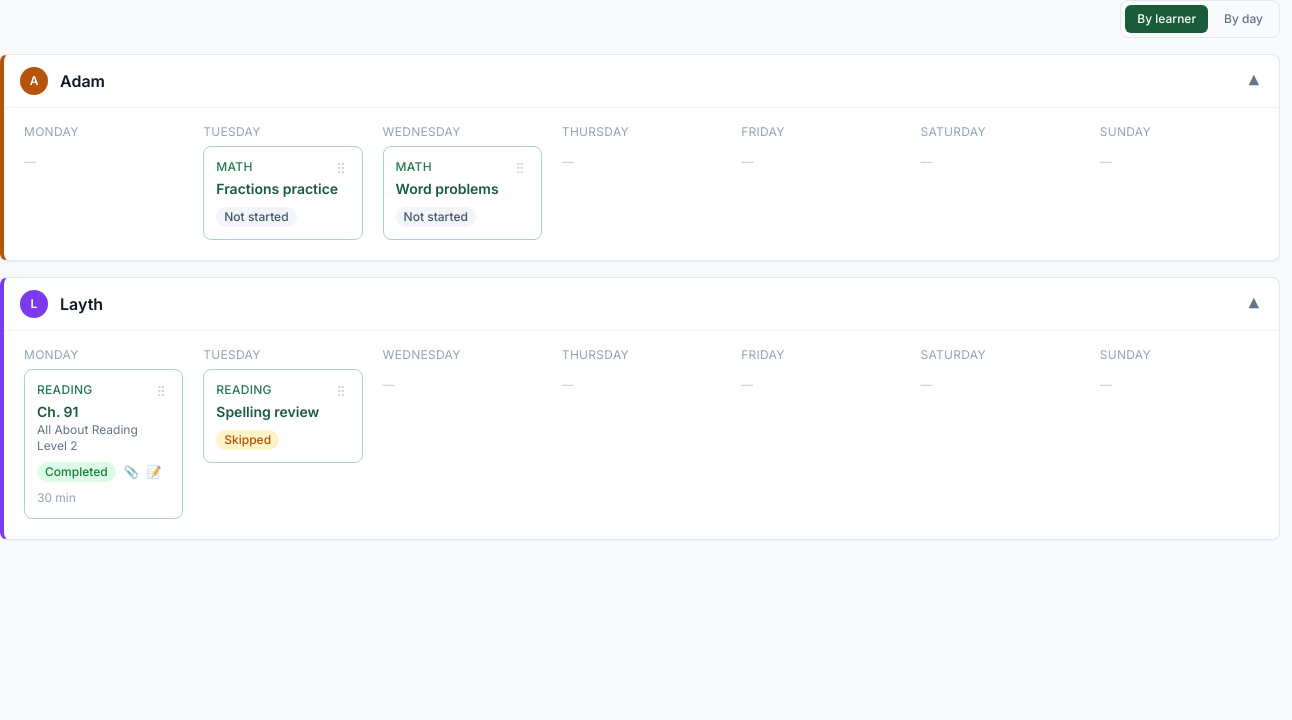
Test: WeeklyPlanner › switching to 'By day' mode shows Child A and Child B's lessons together under a given date, color-coded by learner; switching back to 'By learner' restores the
This screenshot has width=1292, height=720.
Check: the text "Adam" is shown once, box [60,69,105,93]
Check: the text "Layth" is shown once, box [60,292,103,316]
What coordinates should you click on to do the following:
click the button with test id "planner-display-mode-byDay"
I would click on:
 (1244, 19)
Its box is [1212,5,1275,33].
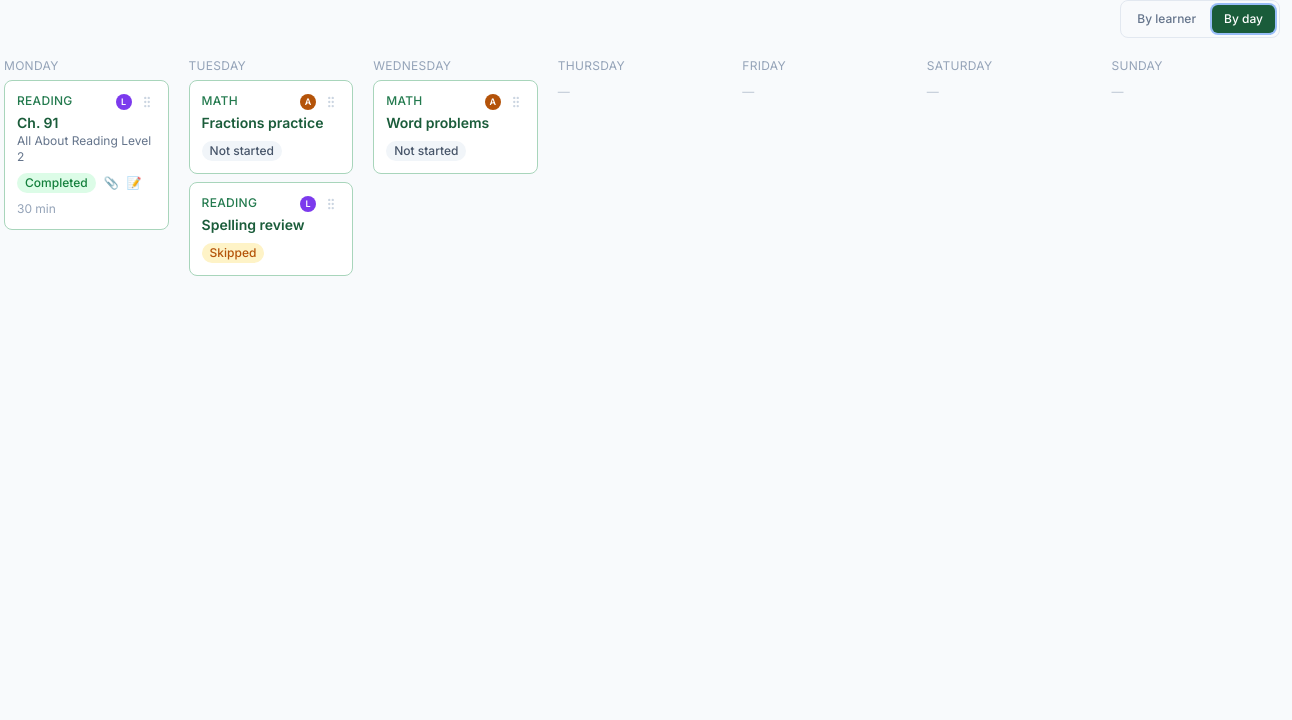
Check: the text with test id "combined-learner-badge-lesson_003" is shown, box [116,94,132,110]
Check: the element with test id "combined-day-lessons-2026-05-11" shows "Ch. 91", box [17,114,58,131]
Check: the element with test id "day-lessons-child_002-2026-05-11" is gone
What coordinates should you click on to do the following:
click the button with test id "planner-display-mode-byLearner"
I would click on:
 (1167, 19)
Its box is [1125,5,1208,33].
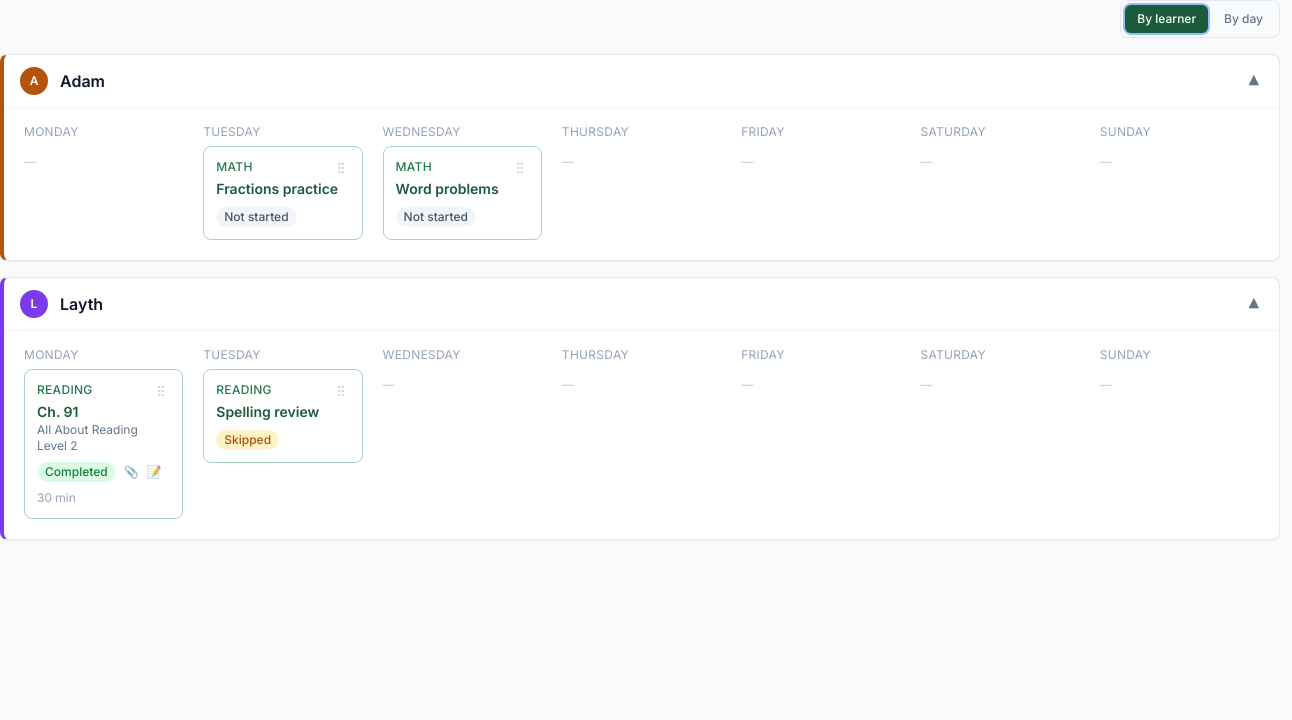
Check: the element with test id "planner-combined-view" is gone
Check: the text "Adam" is shown once, box [60,69,105,93]
Check: the text "Layth" is shown once, box [60,292,103,316]
